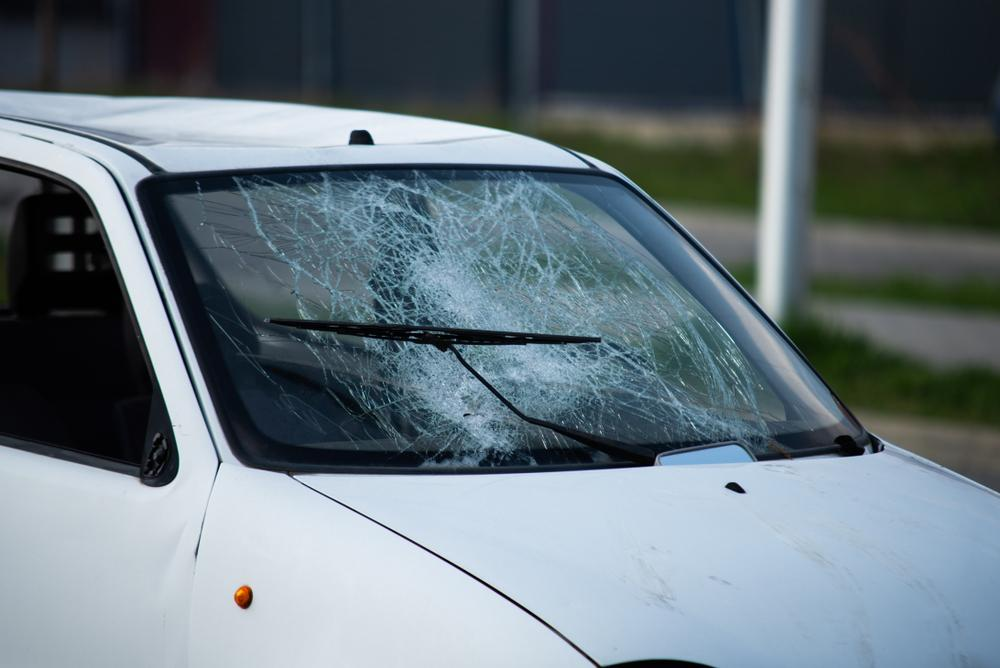dent: (86, 98, 504, 148)
glass shatter: (145, 166, 865, 467)
